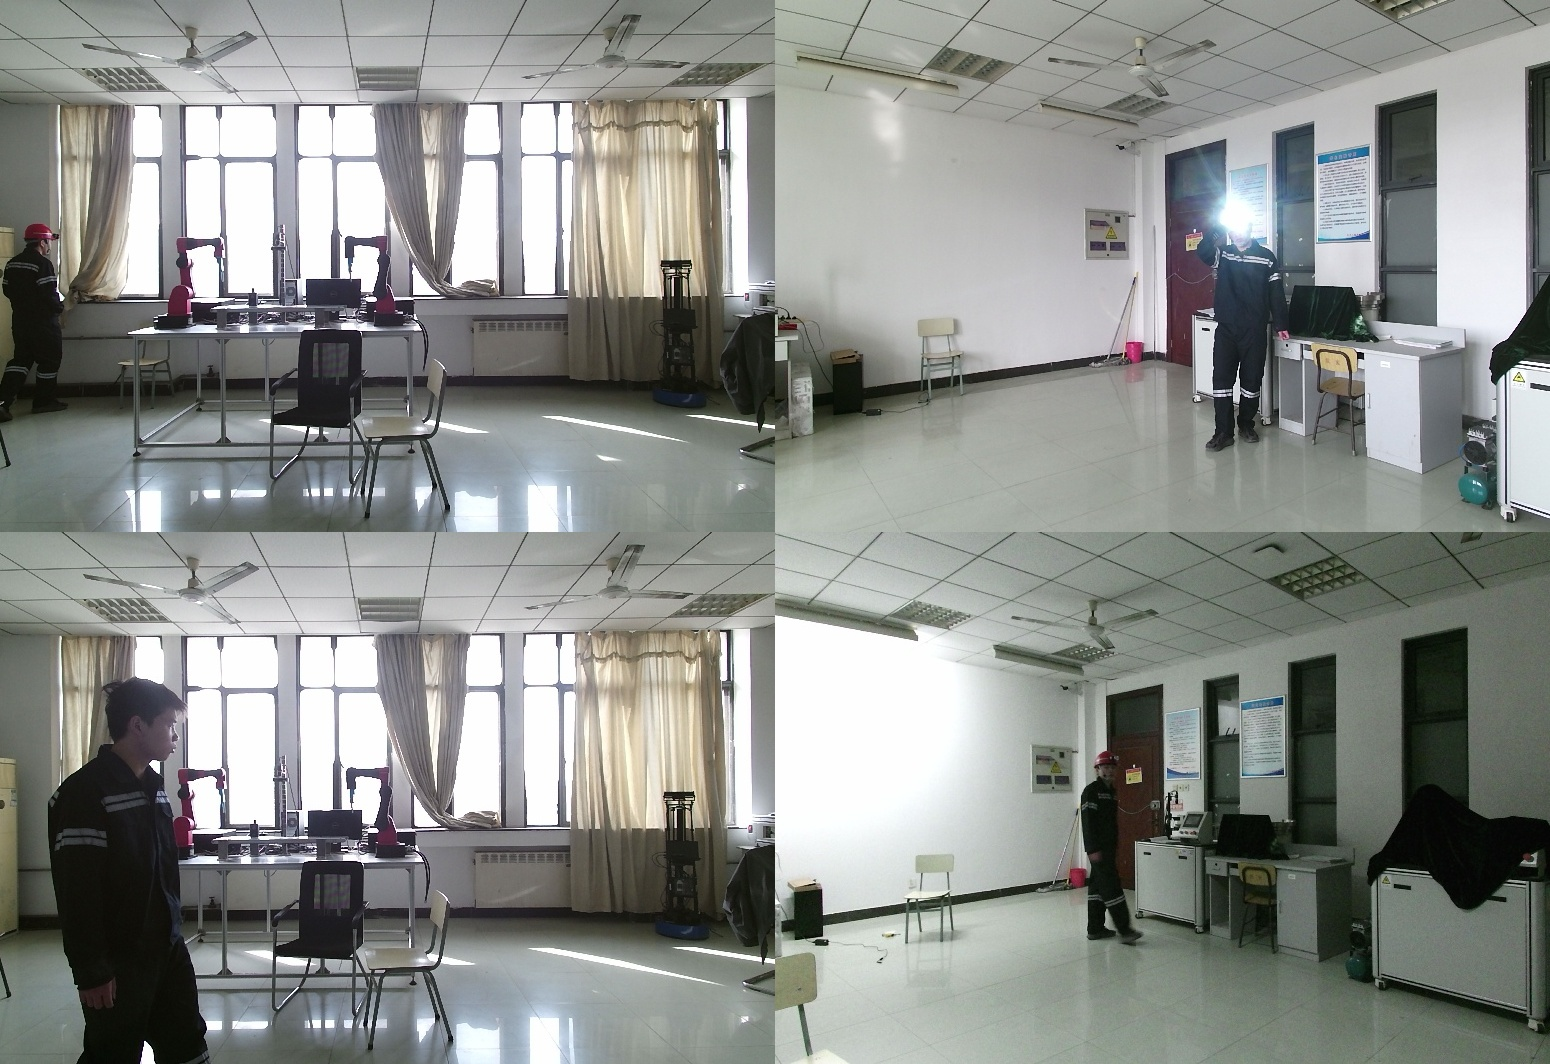person: (51, 679, 218, 1064), (1197, 205, 1297, 451), (4, 226, 71, 412), (1078, 752, 1133, 954)
